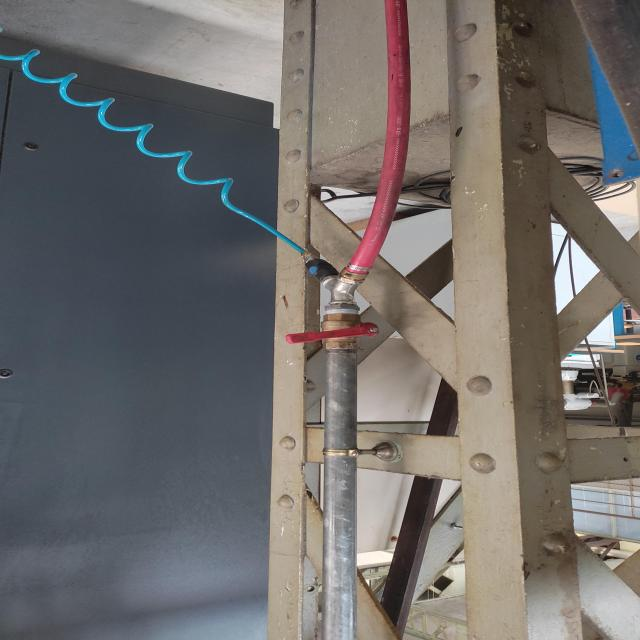closed_valve: (282, 311, 383, 352)
